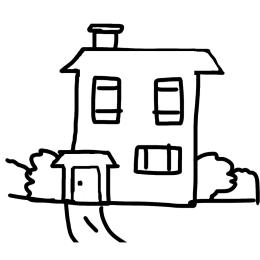chimney: (70, 23, 132, 50)
closed_window: (81, 71, 130, 130), (129, 144, 188, 178), (151, 72, 184, 128)
door: (51, 145, 122, 210)
single_line_roof: (44, 37, 230, 79)
wall: (68, 72, 209, 218)
